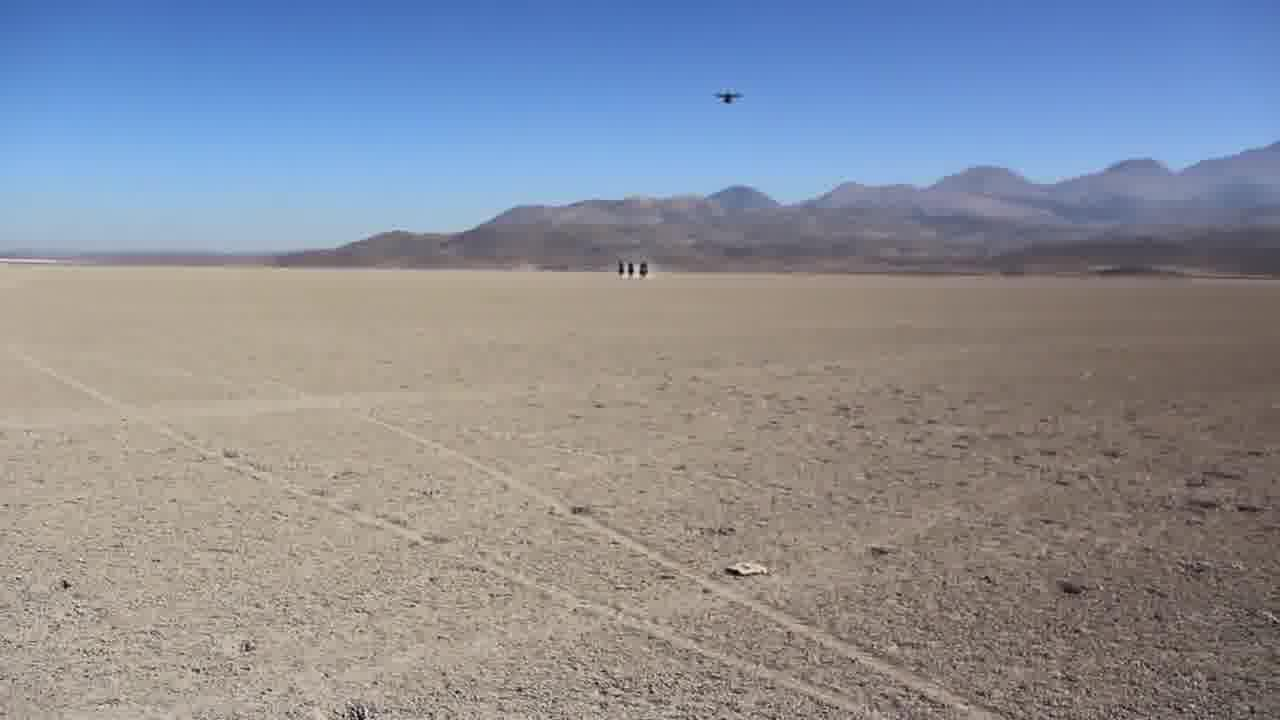drone: (711, 84, 745, 108)
